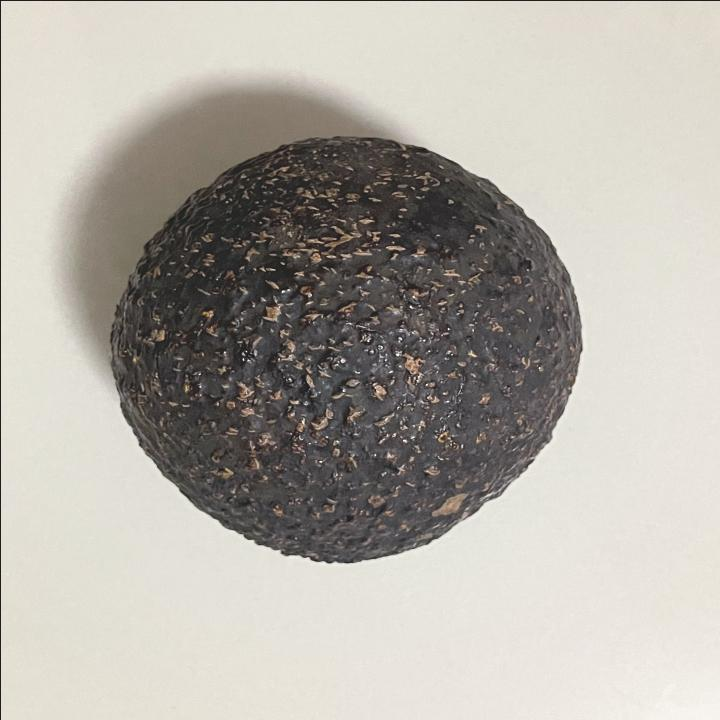Level3: (98, 128, 598, 576)
